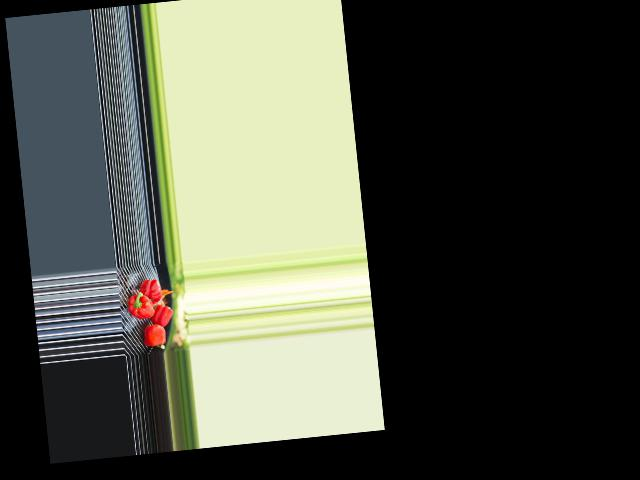bell_pepper: (139, 277, 163, 305)
